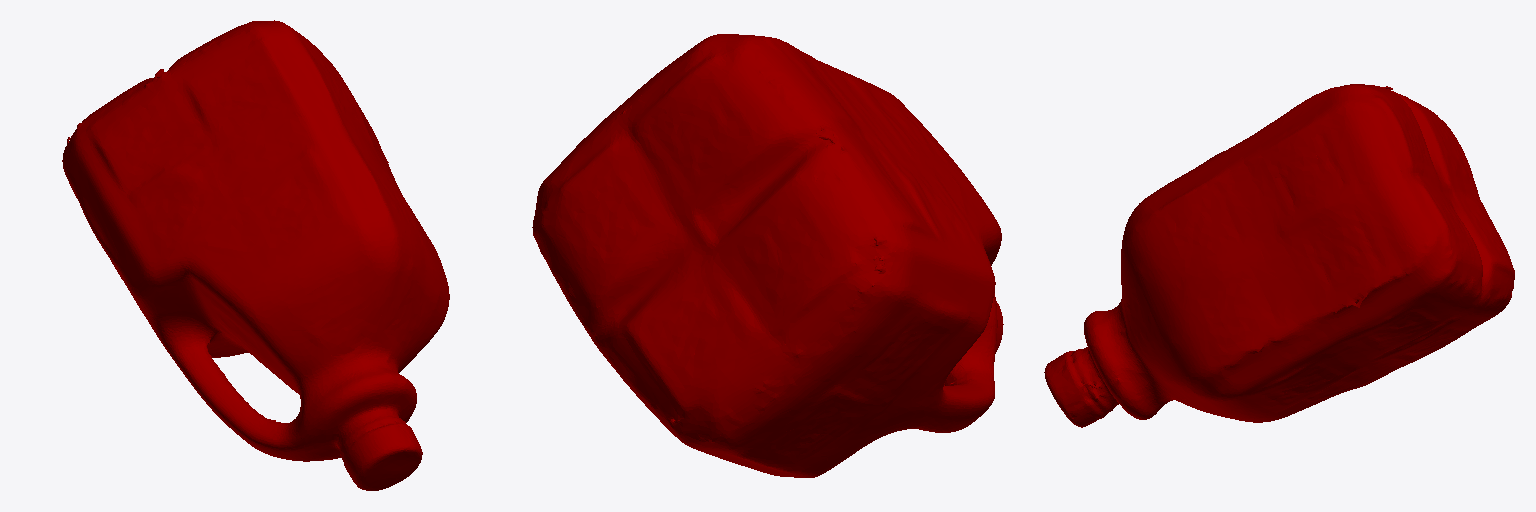
The robot description file, URDF, robot "object":
<?xml version="1.0"?>

<!-- Computed inertial properties by assuming the mesh represents an infinitely
thin, uniformly dense, hollow object.  Done via cnets-data-generation's
test_mesh_inertia.py script, which generated the following, assuming a mass
value of 0.37 kg:

    Object:  milk
    Coefficient of friction:  0.10290575731915912
    Center of mass:  [0.00381566 0.00229598 0.04668316]
    Inertia tensor about center of mass:
        [[ 2.61359530e-03  4.36680415e-05 -4.64234145e-05]
        [ 4.36680415e-05  1.88433598e-03 -4.60274078e-04]
        [-4.64234145e-05 -4.60274078e-04  2.37777193e-03]]
-->

<robot name="object" xmlns:drake="https://drake.mit.edu/">
    <link name="body">
        <inertial>
            <origin xyz="0.00381566 0.00229598 0.04668316" rpy="0 0 0"/>
            <mass value="0.37" />
            <inertia
                ixx="2.61359530e-03"
                ixy="4.36680415e-05"
                ixz="-4.64234145e-05"
                iyy="1.88433598e-03"
                iyz="-4.60274078e-04"
                izz="2.37777193e-03" />
        </inertial>
        <visual>
            <origin xyz="0 0 0" rpy="0 0 0" />
            <geometry>
                <mesh filename="milk_gt.obj"/>
            </geometry>
            <material name="pennred">
                <color rgba="0.6 0 0 1.0" />
            </material>
        </visual>
        <collision>
            <geometry>
                <mesh filename="milk_gt.obj"/>
            </geometry>
            <origin xyz="0 0 0" rpy="0 0 0" />
            <drake:proximity_properties>
                <drake:mu_static value="0.10290575731915912" />
            </drake:proximity_properties>
        </collision>
    </link>
</robot>

--- Facts derived from the render (not from the file) ---
Views: 3 orthographic renders of the robot side by side, from view 1: azimuth 30°, elevation 25°; view 2: azimuth 150°, elevation 25°; view 3: azimuth 270°, elevation 25°.
Model object with 1 links and 0 joints (none), rooted at body, posed every joint at zero.
Visible links, largest first — view 1: body; view 2: body; view 3: body.
Boxes of the visible links, x1,y1,x2,y2 form: body: [62, 20, 449, 490]; body: [532, 34, 1003, 477]; body: [1044, 84, 1514, 427].
Size in the robot's own frame: 0.1767 by 0.2582 by 0.2087 metres.
Meshes: 1 distinct files referenced, 1 mesh visuals loaded (1 OBJ).
